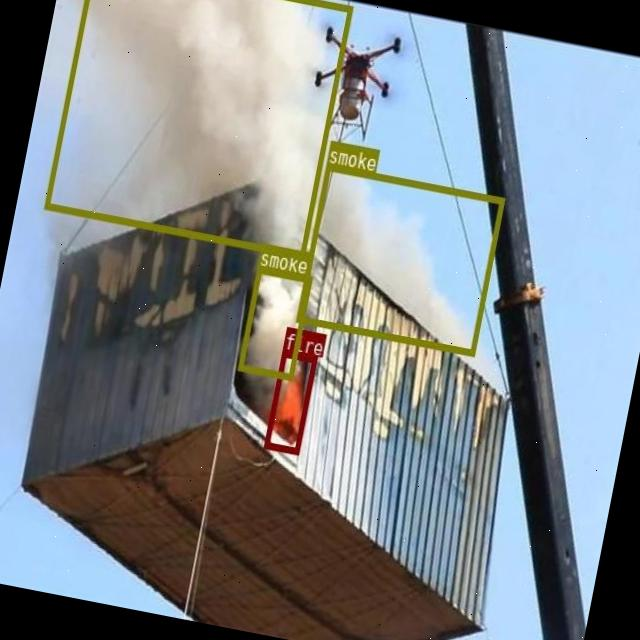fire: (264, 348, 317, 454)
smoke: (43, 0, 352, 258), (296, 162, 504, 355), (237, 266, 312, 379)
